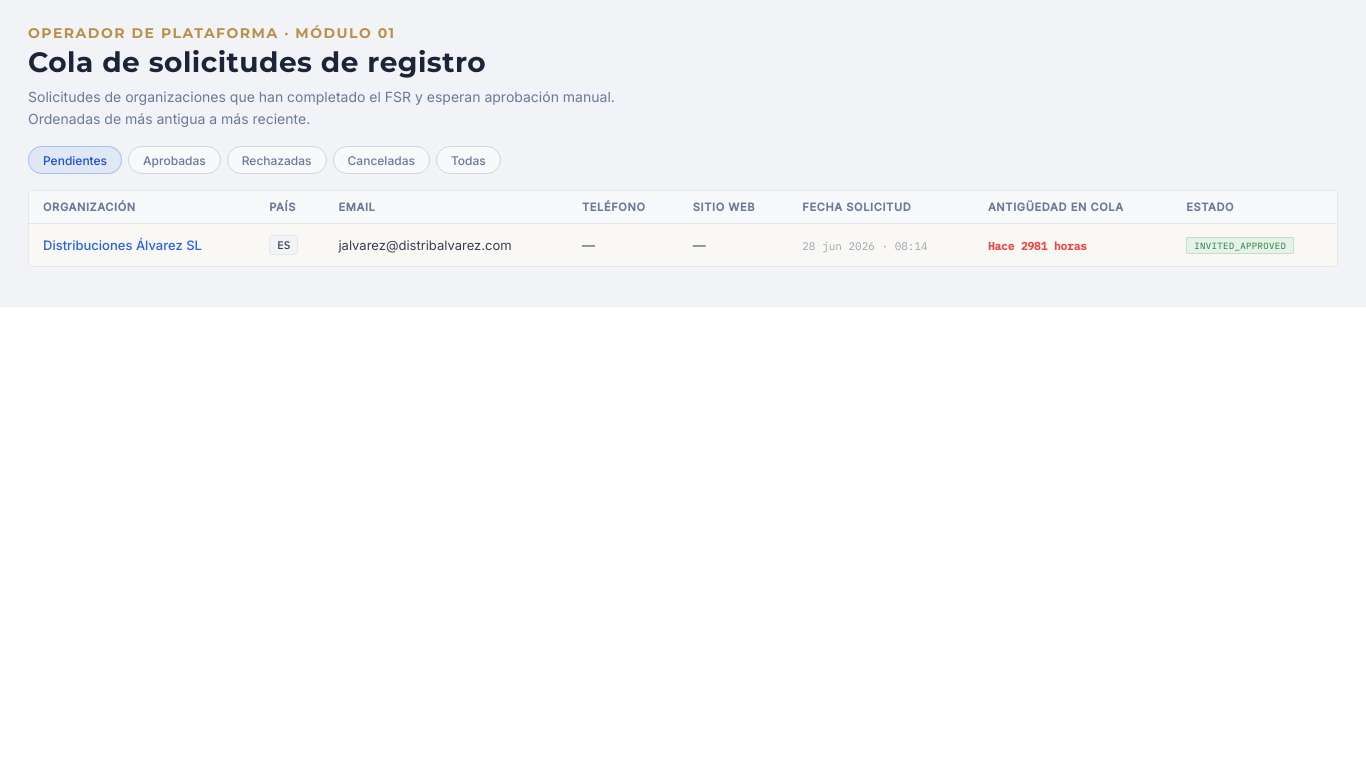
Test: AdminRequests · enlace de acceso › «Generar enlace nuevo» sustituye el estado por el enlace nuevo
Click the button "Todas": (468, 160) x1=436 y1=146 x2=501 y2=174
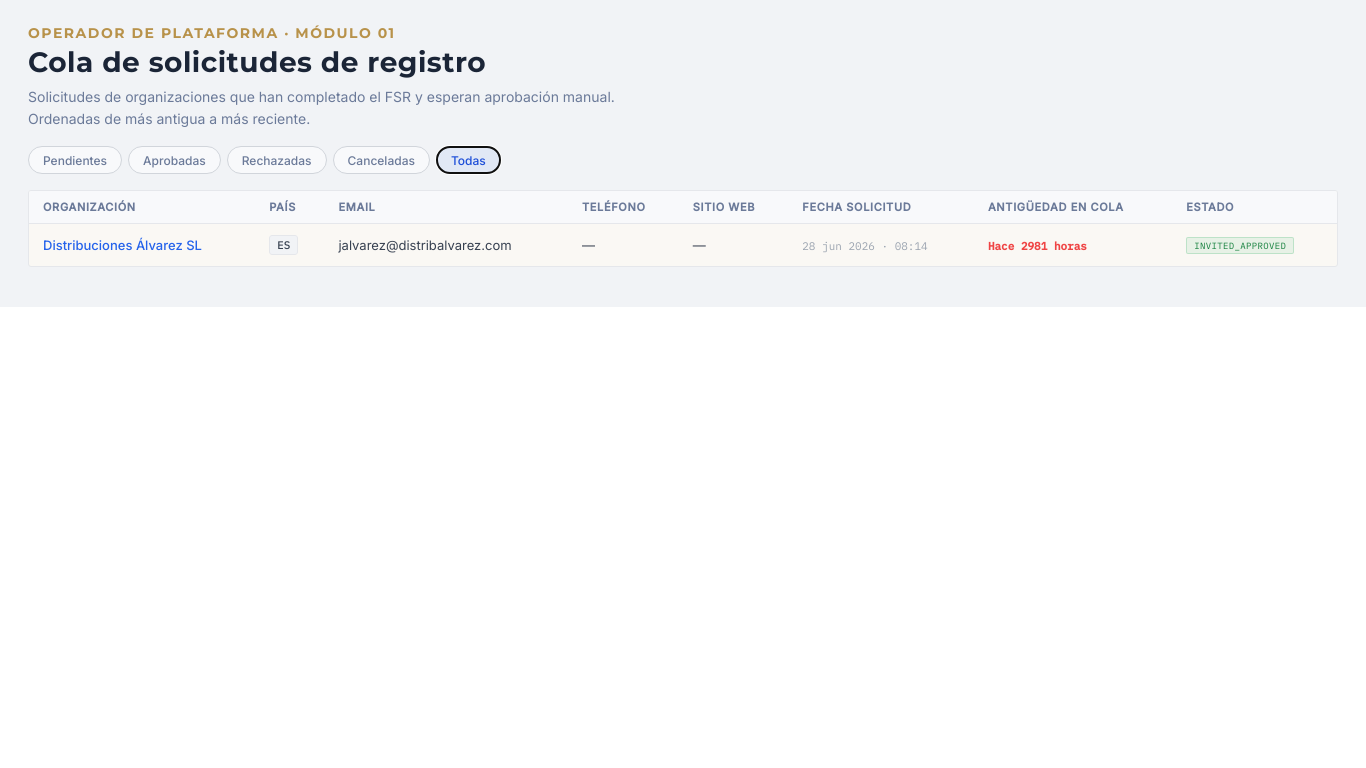
Click the button "Distribuciones Álvarez SL": (122, 245) x1=43 y1=237 x2=202 y2=253
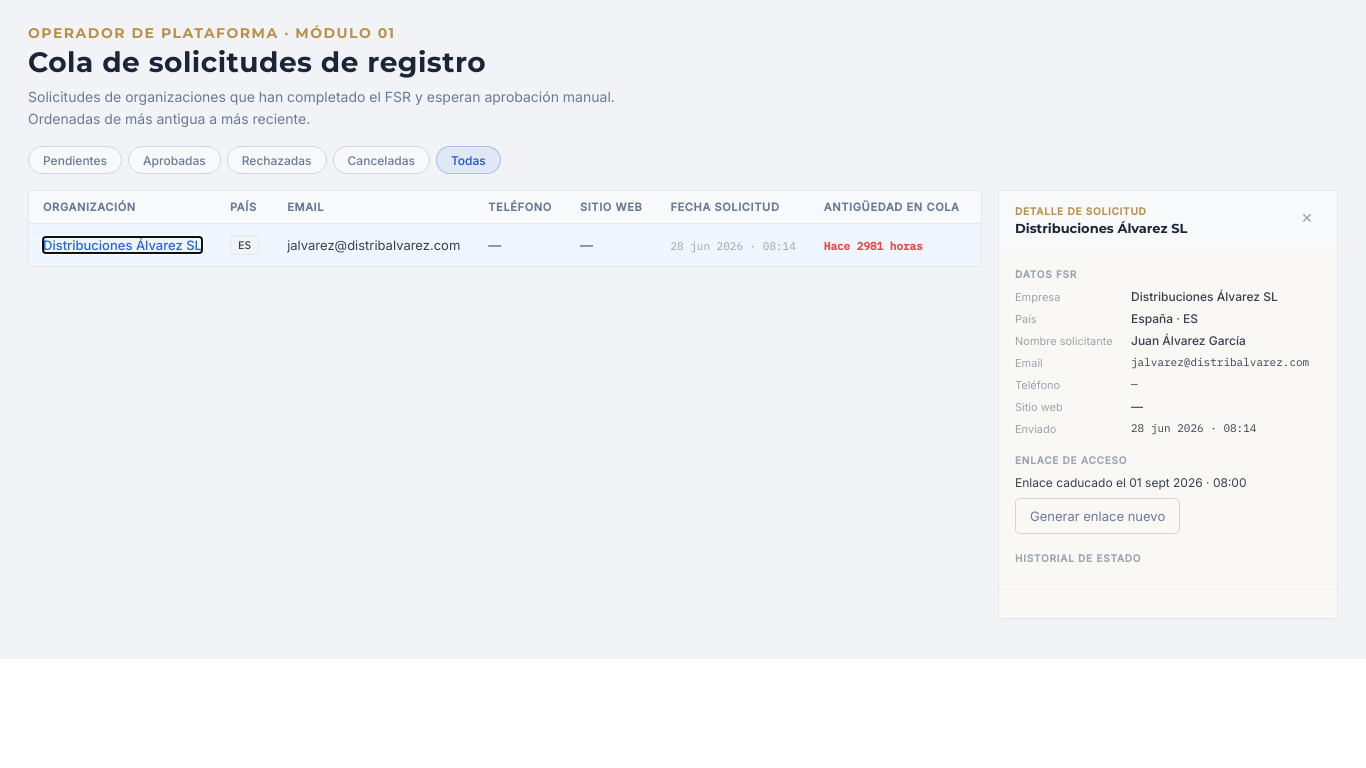
Now the text "Detalle de solicitud" is shown, box x1=1015 y1=205 x2=1147 y2=217
Click the button "Generar enlace nuevo": (1098, 516) x1=1015 y1=498 x2=1180 y2=534
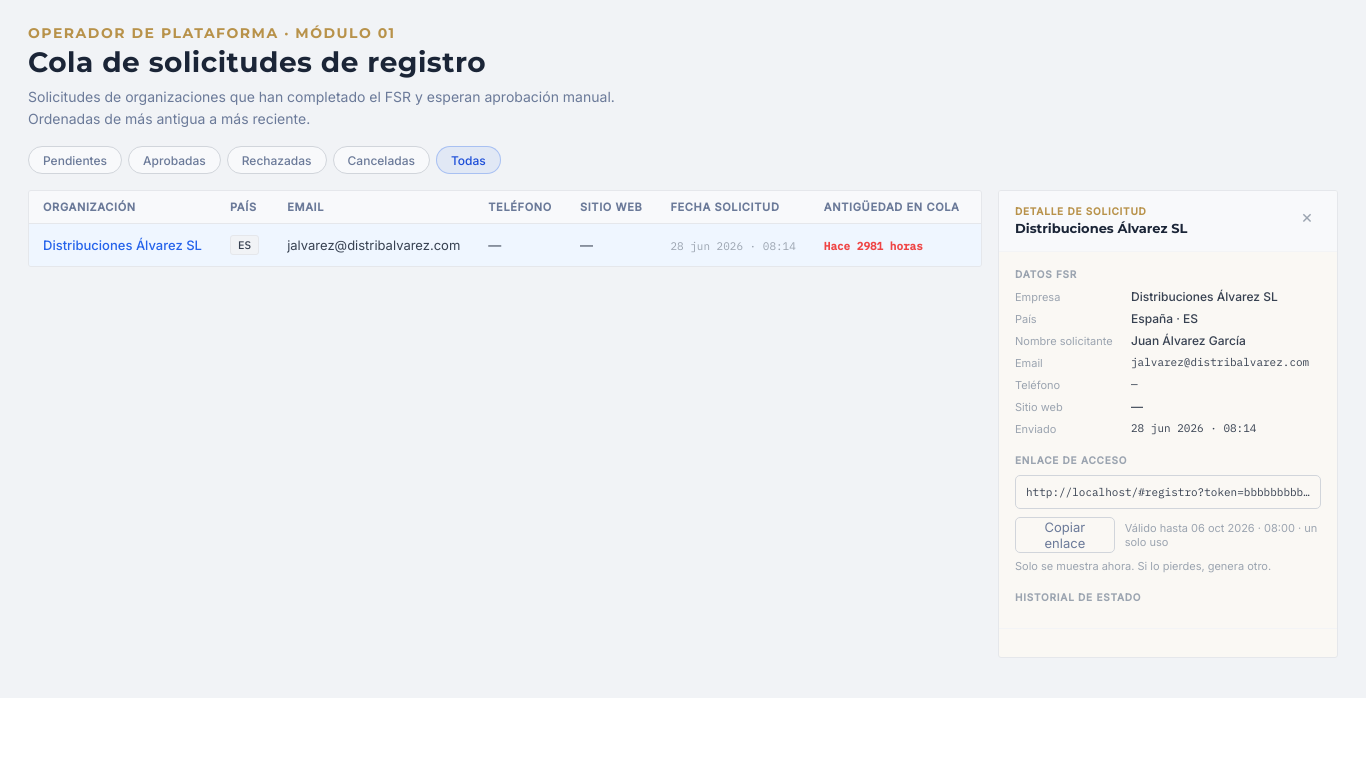
Now the field named "Enlace de registro" is shown, box x1=1015 y1=475 x2=1321 y2=509
